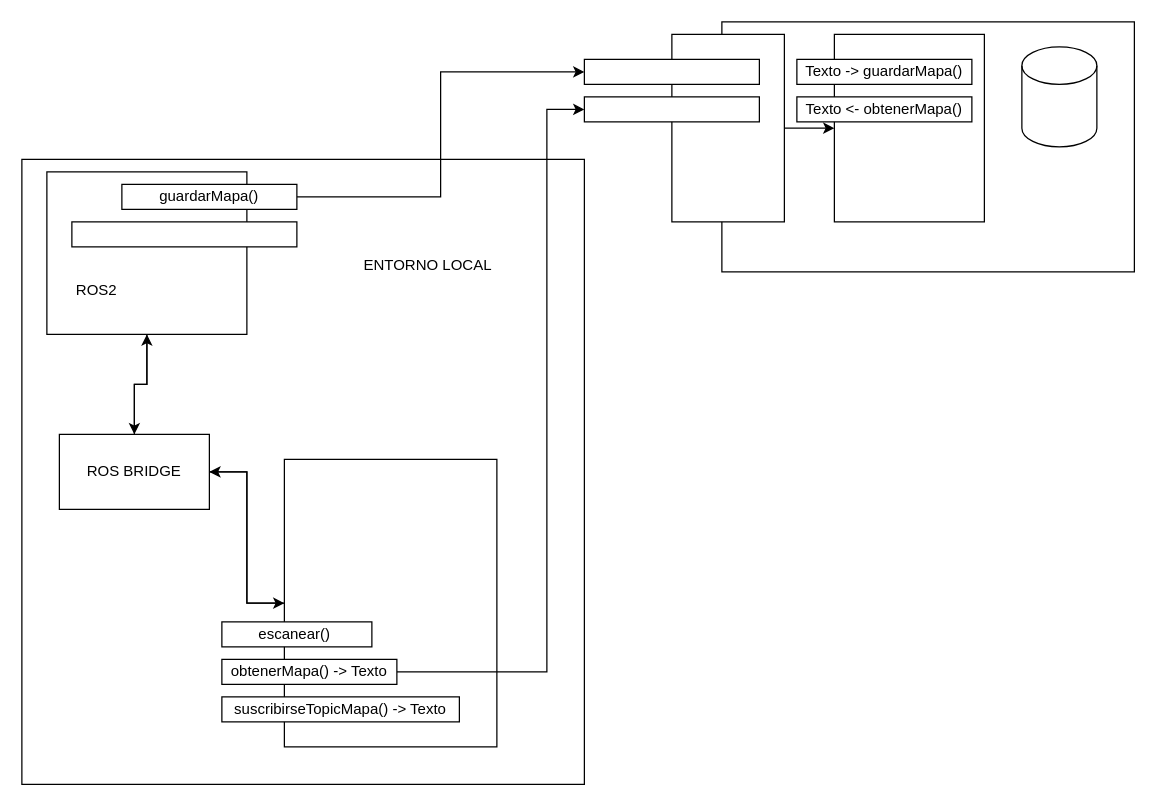
The diagram is 1156 pixels wide and 806 high, and some of its shapes have lost their labels. Here are the shapes that lost their labels. From the top down, the box of each, then its label:
(583, 58, 759, 84): POST/mapa
(583, 96, 759, 122): GET/mapa
(71, 221, 297, 247): Texto -> publicarMapaTopic()
(283, 458, 497, 747): WEB APP
